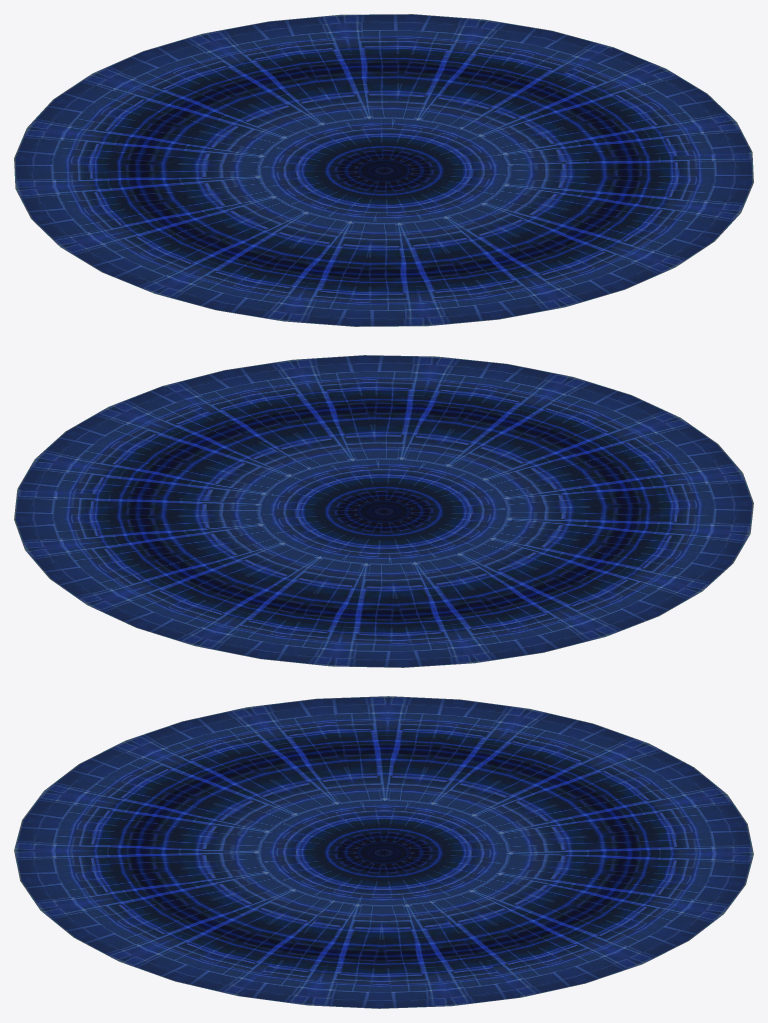
File: S_Build_Jidi088_H1.FBX
3 views of the same model, one above another, from view 1: azimuth 30°, elevation 25°; view 2: azimuth 150°, elevation 25°; view 3: azimuth 270°, elevation 25° (orthographic).
Parts seen in each view (by area): view 1: S_Build_Jidi088_H1; view 2: S_Build_Jidi088_H1; view 3: S_Build_Jidi088_H1.
Part boxes in pixels (<box>): S_Build_Jidi088_H1: <box>14,14,753,326</box>; S_Build_Jidi088_H1: <box>14,355,753,667</box>; S_Build_Jidi088_H1: <box>14,696,753,1008</box>.
Size of the model in its own units: 4510 by 4510 by 1.68.
Materials: 1 (1 with a texture image).
